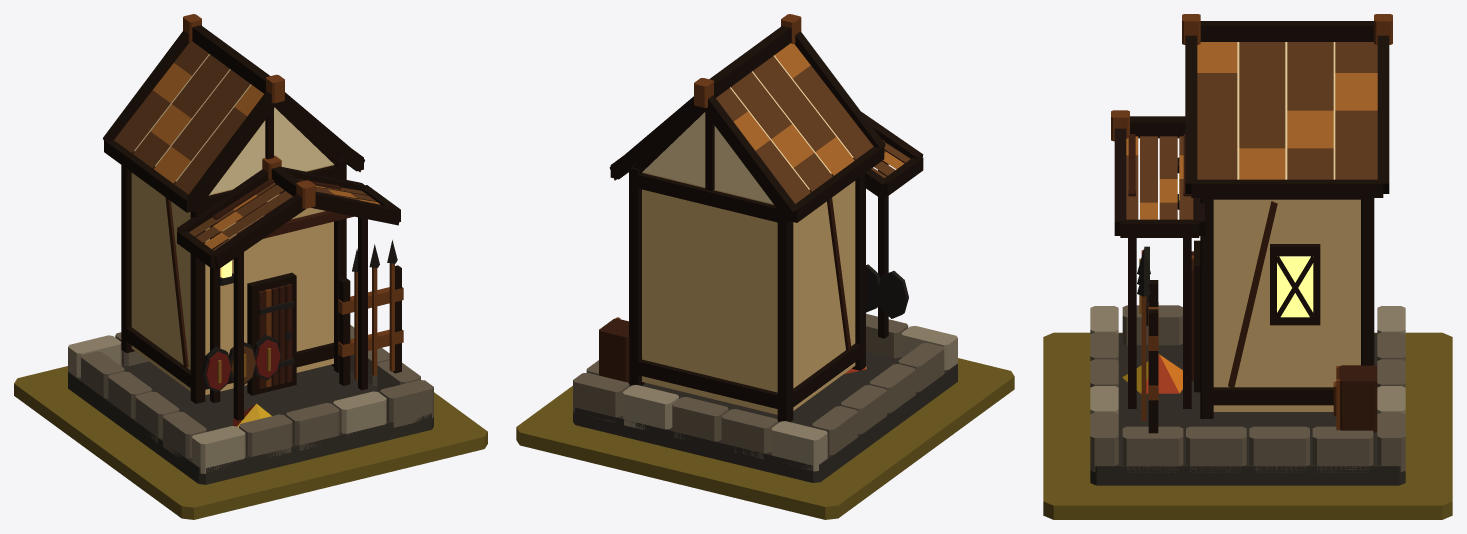
The model's file is armory_t4.glb.
3 renders of one model, left to right at view 1: azimuth 30°, elevation 25°; view 2: azimuth 150°, elevation 25°; view 3: azimuth 270°, elevation 25°, orthographic. The views are drawn at different scales.
Visible parts, largest first — view 1: MMR | armory | T04 Architecture.001, MMR | armory | Tier 04 Ground.001; view 2: MMR | armory | T04 Architecture.001, MMR | armory | Tier 04 Ground.001; view 3: MMR | armory | T04 Architecture.001, MMR | armory | Tier 04 Ground.001, MMR | armory | T04 Autumn Dressing.001.
Boxes of the visible parts, bbox=[...] form: MMR | armory | T04 Architecture.001: bbox=[68, 14, 433, 484]; MMR | armory | Tier 04 Ground.001: bbox=[14, 366, 487, 519]; MMR | armory | T04 Architecture.001: bbox=[573, 14, 957, 482]; MMR | armory | Tier 04 Ground.001: bbox=[516, 358, 1014, 519]; MMR | armory | T04 Architecture.001: bbox=[1090, 14, 1405, 485]; MMR | armory | Tier 04 Ground.001: bbox=[1043, 332, 1452, 519]; MMR | armory | T04 Autumn Dressing.001: bbox=[1122, 354, 1182, 393].
Size of the model in its own units: 1.3 by 1.46 by 1.3.
Materials: 2 (1 with a texture image).
